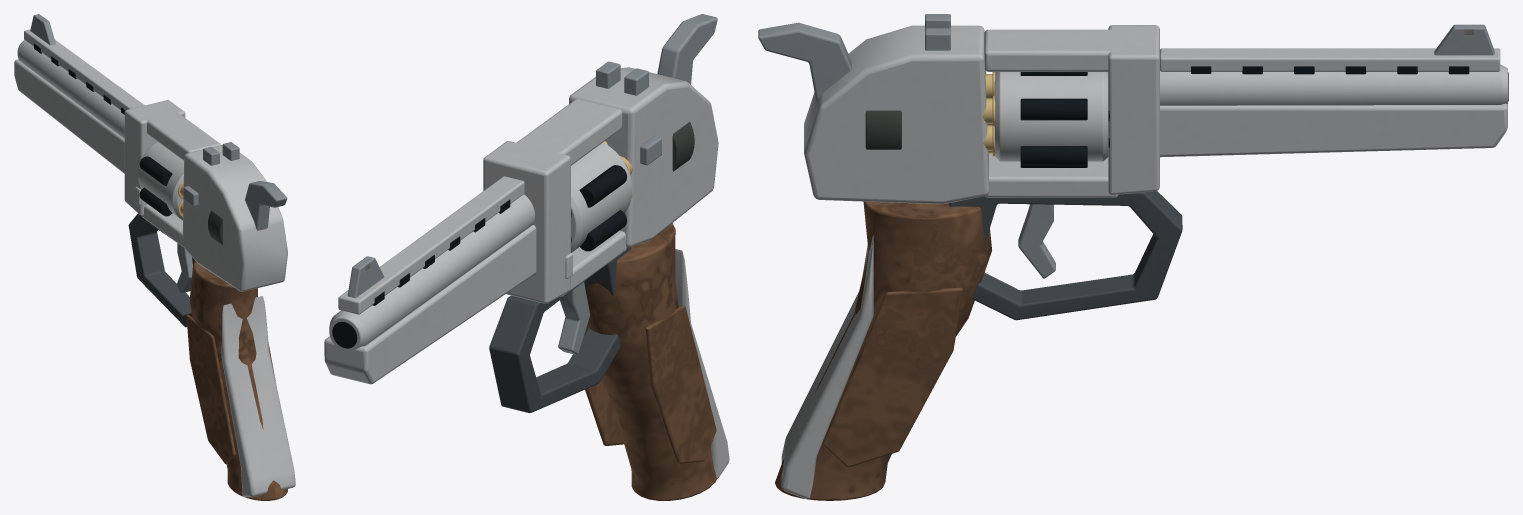
File: magistrate.glb
3 views of the same model, side by side, from view 1: azimuth 30°, elevation 25°; view 2: azimuth 150°, elevation 25°; view 3: azimuth 270°, elevation 25° (orthographic). The views are drawn at different scales.
Visible parts, largest first — view 1: Magistrate_Static_Brushed stainless, Magistrate_Frame, Magistrate_Grip, Magistrate_Static_Laminated walnut, Magistrate_TriggerGuard, Magistrate_Barrel, Magistrate_Cylinder, Magistrate_Hammer, Magistrate_Static_Machined steel, Magistrate_Trigger, Magistrate_CylinderFlute.002, Magistrate_CylinderFlute.003 (+1 smaller); view 2: Magistrate_Static_Brushed stainless, Magistrate_Grip, Magistrate_Frame, Magistrate_TriggerGuard, Magistrate_Static_Laminated walnut, Magistrate_Barrel, Magistrate_Cylinder, Magistrate_Static_Machined steel, Magistrate_Hammer, Magistrate_Trigger, Magistrate_Static_Recess shadow, Magistrate_CylinderFlute.002 (+2 smaller); view 3: Magistrate_Static_Brushed stainless, Magistrate_Frame, Magistrate_Grip, Magistrate_Static_Laminated walnut, Magistrate_Barrel, Magistrate_TriggerGuard, Magistrate_Cylinder, Magistrate_Hammer, Magistrate_Static_Machined steel, Magistrate_Trigger, Magistrate_CylinderFlute, Magistrate_SpeedloaderBody (+2 smaller).
Part boxes in pixels (x1,y1,x2,y2): Magistrate_Static_Brushed stainless: [14, 29, 295, 497]; Magistrate_Frame: [182, 145, 287, 291]; Magistrate_Grip: [190, 261, 287, 500]; Magistrate_Static_Laminated walnut: [186, 314, 275, 464]; Magistrate_TriggerGuard: [128, 213, 194, 327]; Magistrate_Barrel: [17, 40, 124, 138]; Magistrate_Cylinder: [137, 142, 183, 220]; Magistrate_Hammer: [245, 181, 287, 230]; Magistrate_Static_Machined steel: [30, 14, 239, 206]; Magistrate_Trigger: [176, 243, 192, 293]; Magistrate_CylinderFlute.002: [139, 156, 172, 185]; Magistrate_CylinderFlute.003: [139, 187, 172, 216]; Magistrate_Static_Brushed stainless: [324, 99, 729, 478]; Magistrate_Grip: [585, 223, 716, 500]; Magistrate_Frame: [569, 67, 718, 247]; Magistrate_TriggerGuard: [489, 247, 631, 413]; Magistrate_Static_Laminated walnut: [585, 305, 716, 463]; Magistrate_Barrel: [329, 194, 534, 351]; Magistrate_Cylinder: [571, 142, 632, 252]; Magistrate_Static_Machined steel: [347, 61, 661, 297]; Magistrate_Hammer: [657, 14, 717, 84]; Magistrate_Trigger: [558, 281, 590, 354]; Magistrate_Static_Recess shadow: [332, 199, 510, 348]; Magistrate_CylinderFlute.002: [579, 165, 626, 207]; Magistrate_Static_Brushed stainless: [781, 25, 1507, 499]; Magistrate_Frame: [804, 25, 989, 204]; Magistrate_Grip: [775, 201, 991, 500]; Magistrate_Static_Laminated walnut: [822, 287, 963, 467]; Magistrate_Barrel: [1160, 64, 1507, 105]; Magistrate_TriggerGuard: [949, 191, 1182, 320]; Magistrate_Cylinder: [994, 72, 1108, 161]; Magistrate_Hammer: [758, 22, 851, 102]; Magistrate_Static_Machined steel: [925, 14, 1494, 55]; Magistrate_Trigger: [1018, 204, 1055, 278]; Magistrate_CylinderFlute: [1020, 98, 1087, 120]; Magistrate_SpeedloaderBody: [865, 110, 901, 149].
Bounding box in the file's own units: 0.0417 × 0.1974 × 0.2909.
8 materials, 8 textured.
